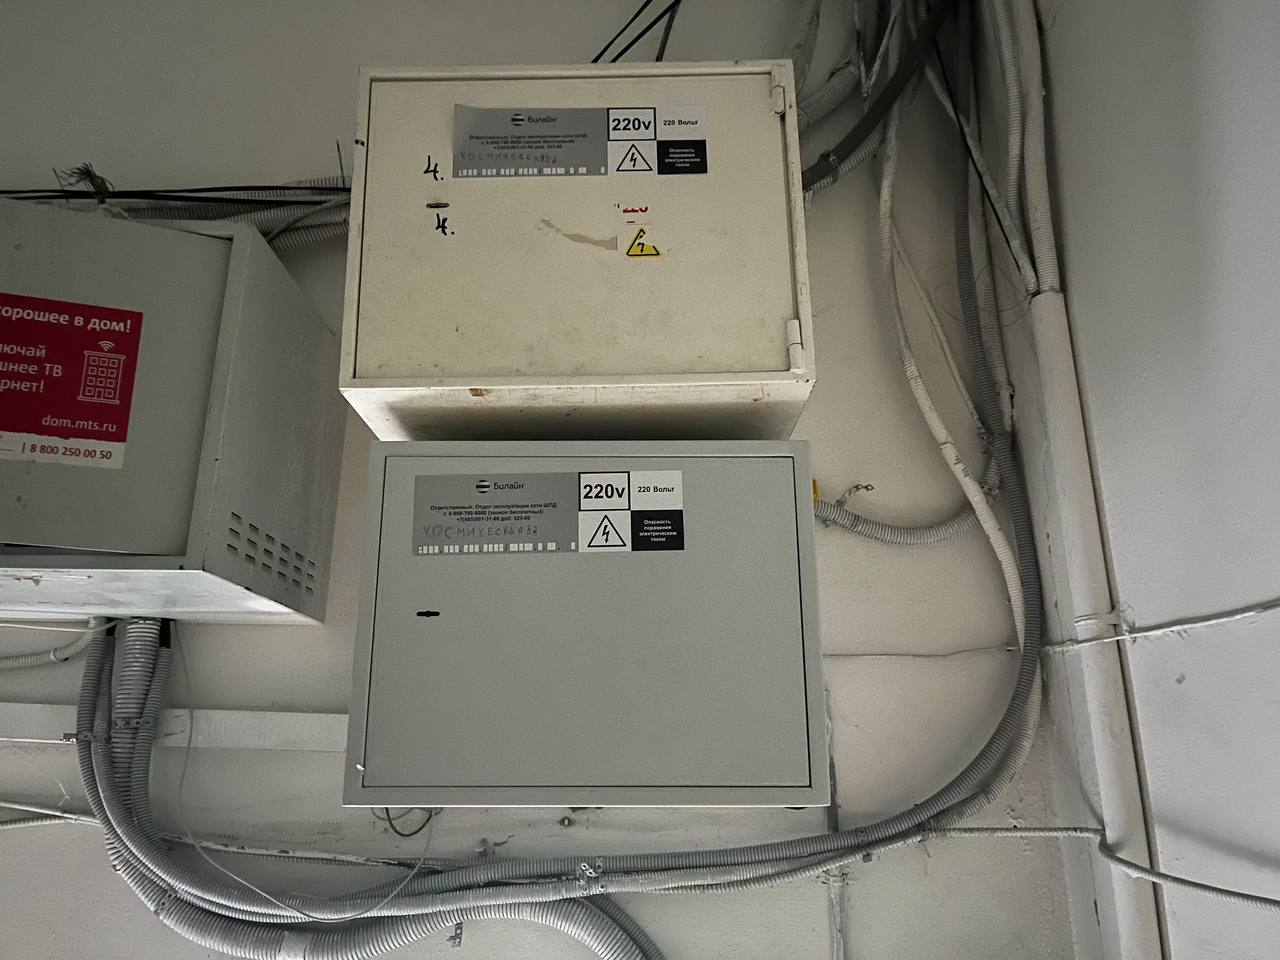shta-9m: (316, 427, 847, 822), (321, 47, 827, 440)
